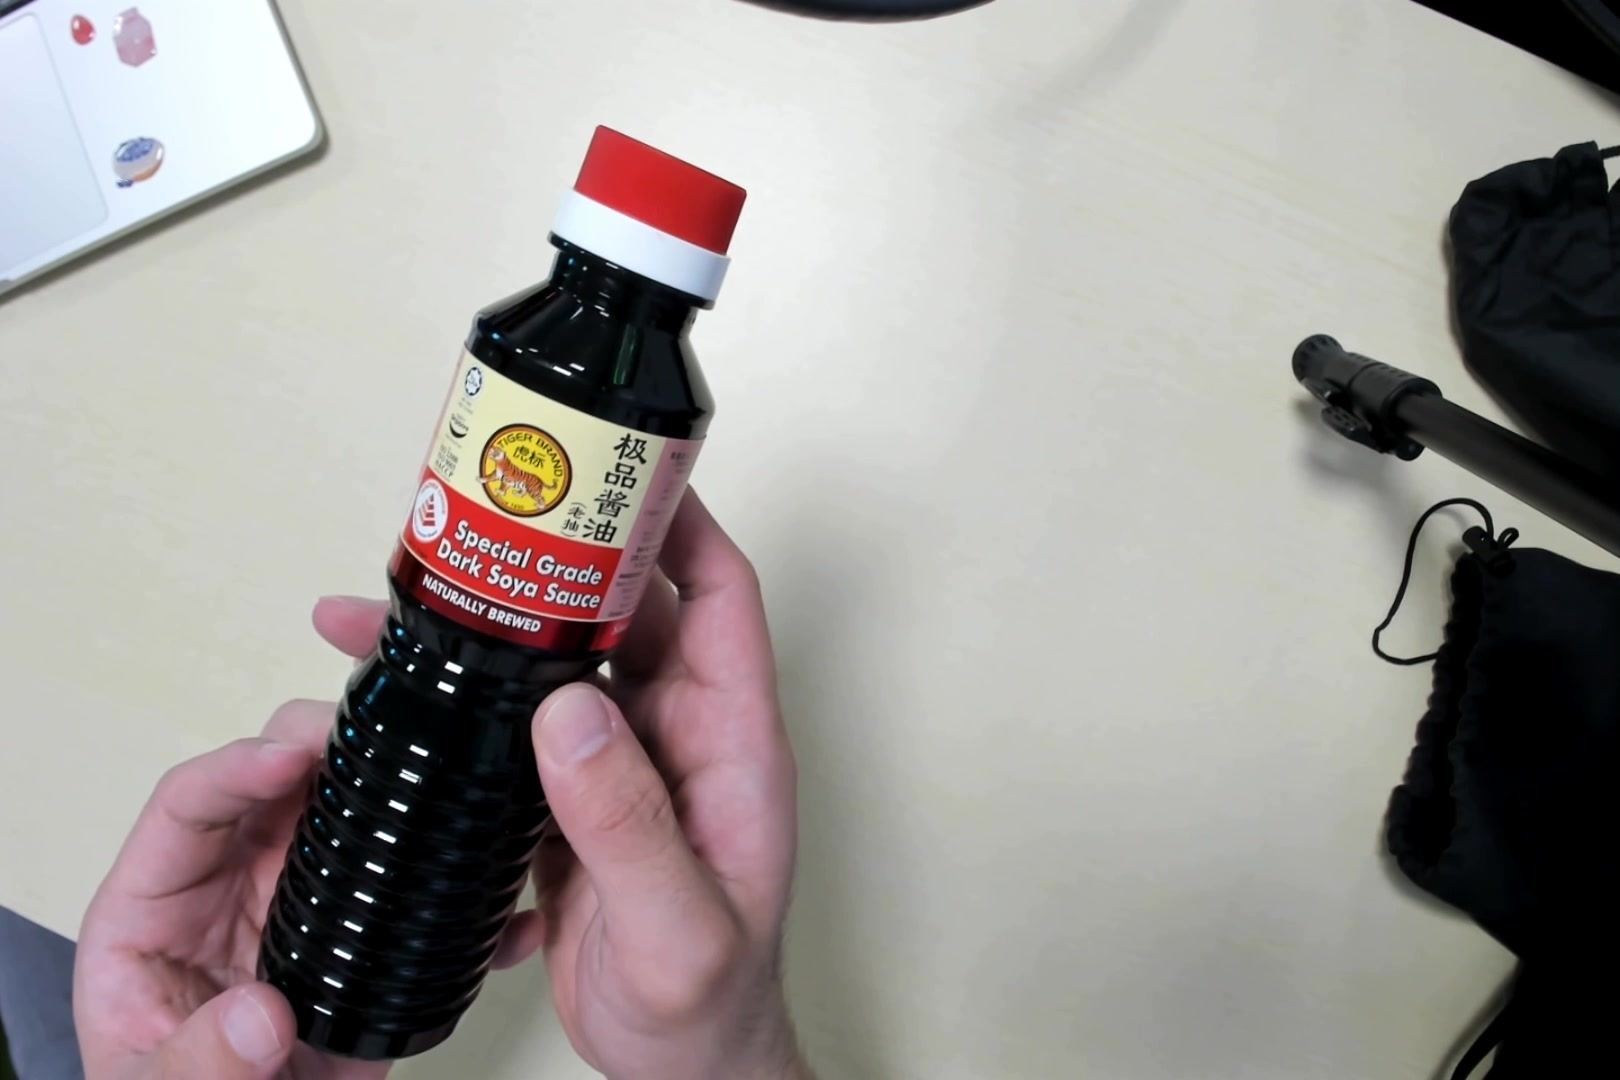DarkSoySauce_300-399g_Halal_NonHealthy: (270, 128, 740, 1080)
